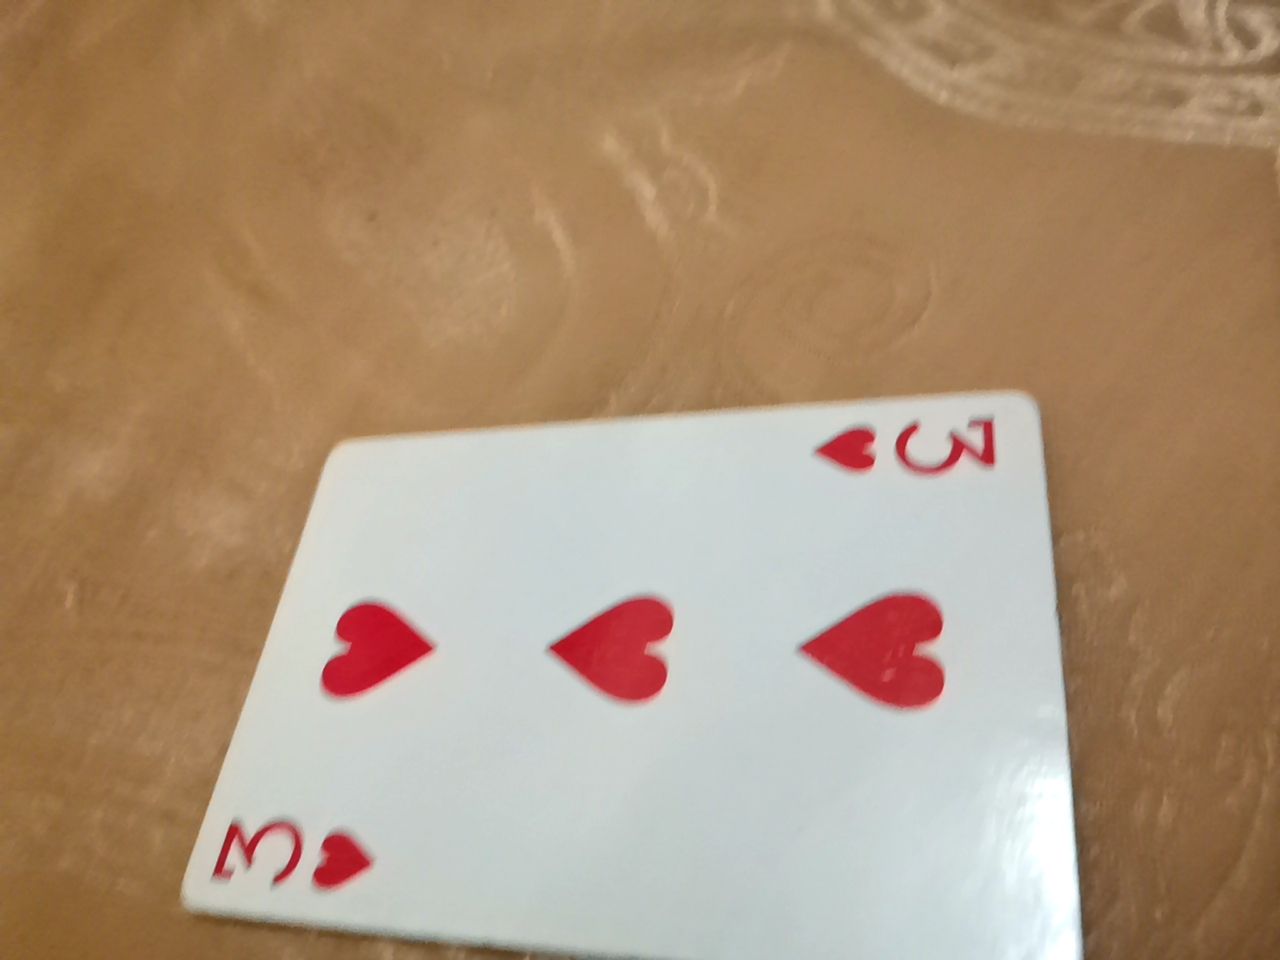hx 3: (198, 346, 1093, 929)
